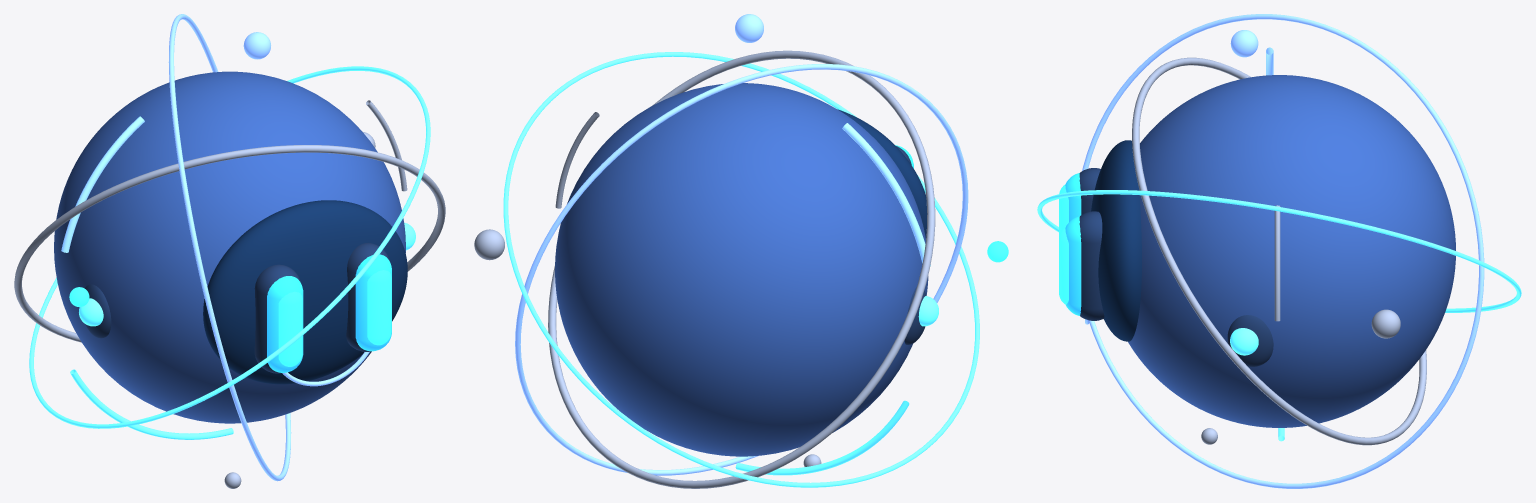
File: hugo_orbe_3d.glb
3 views of the same model, side by side, from view 1: azimuth 30°, elevation 25°; view 2: azimuth 150°, elevation 25°; view 3: azimuth 270°, elevation 25° (orthographic). The views are drawn at different scales.
Visible parts, largest first — view 1: 000_Nucleo principal, 002_Visor frontal, 010_Aro inclinado cromado, 012_Anel orbital secundario, 011_Anel orbital eletrico, 008_Olho luminoso 2, 004_Halo do olho 1, 005_Olho luminoso 1, 003_Caixa do olho 1, 007_Halo do olho 2, 015_Arco inferior esquerdo, 006_Caixa do olho 2 (+6 smaller); view 2: 000_Nucleo principal, 010_Aro inclinado cromado, 012_Anel orbital secundario, 011_Anel orbital eletrico, 002_Visor frontal, 015_Arco inferior esquerdo, 013_Arco superior esquerdo, 016_Satelite 1, 014_Arco superior direito, 018_Satelite 3; view 3: 000_Nucleo principal, 002_Visor frontal, 011_Anel orbital eletrico, 010_Aro inclinado cromado, 012_Anel orbital secundario, 006_Caixa do olho 2, 007_Halo do olho 2, 022_Conector lateral 1, 014_Arco superior direito, 008_Olho luminoso 2, 016_Satelite 1, 023_Led lateral 1 (+3 smaller).
Part boxes in pixels (x1=…): 000_Nucleo principal: x1=54, y1=71, x2=405, y2=423; 002_Visor frontal: x1=203, y1=200, x2=407, y2=384; 010_Aro inclinado cromado: x1=14, y1=145, x2=445, y2=342; 012_Anel orbital secundario: x1=29, y1=66, x2=430, y2=428; 011_Anel orbital eletrico: x1=168, y1=14, x2=291, y2=481; 008_Olho luminoso 2: x1=367, y1=270, x2=391, y2=345; 004_Halo do olho 1: x1=267, y1=276, x2=303, y2=372; 005_Olho luminoso 1: x1=278, y1=291, x2=302, y2=366; 003_Caixa do olho 1: x1=254, y1=264, x2=300, y2=373; 007_Halo do olho 2: x1=355, y1=254, x2=391, y2=351; 015_Arco inferior esquerdo: x1=70, y1=369, x2=233, y2=439; 006_Caixa do olho 2: x1=346, y1=242, x2=389, y2=351; 000_Nucleo principal: x1=555, y1=83, x2=928, y2=456; 010_Aro inclinado cromado: x1=548, y1=50, x2=935, y2=488; 012_Anel orbital secundario: x1=503, y1=52, x2=979, y2=487; 011_Anel orbital eletrico: x1=515, y1=64, x2=968, y2=475; 002_Visor frontal: x1=838, y1=109, x2=927, y2=237; 015_Arco inferior esquerdo: x1=735, y1=400, x2=909, y2=475; 013_Arco superior esquerdo: x1=842, y1=123, x2=930, y2=265; 016_Satelite 1: x1=474, y1=229, x2=504, y2=260; 014_Arco superior direito: x1=555, y1=112, x2=599, y2=208; 018_Satelite 3: x1=735, y1=14, x2=763, y2=42; 000_Nucleo principal: x1=1128, y1=75, x2=1455, y2=427; 002_Visor frontal: x1=1091, y1=140, x2=1141, y2=341; 011_Anel orbital eletrico: x1=1082, y1=14, x2=1484, y2=488; 010_Aro inclinado cromado: x1=1132, y1=57, x2=1426, y2=445; 012_Anel orbital secundario: x1=1037, y1=190, x2=1521, y2=312; 006_Caixa do olho 2: x1=1079, y1=211, x2=1104, y2=320; 007_Halo do olho 2: x1=1065, y1=216, x2=1081, y2=315; 022_Conector lateral 1: x1=1227, y1=315, x2=1273, y2=366; 014_Arco superior direito: x1=1274, y1=205, x2=1280, y2=321; 008_Olho luminoso 2: x1=1059, y1=228, x2=1068, y2=304; 016_Satelite 1: x1=1371, y1=309, x2=1400, y2=338; 023_Led lateral 1: x1=1230, y1=328, x2=1258, y2=355.
Bounding box in the file's own units: 2.4 × 2.48 × 2.5.
